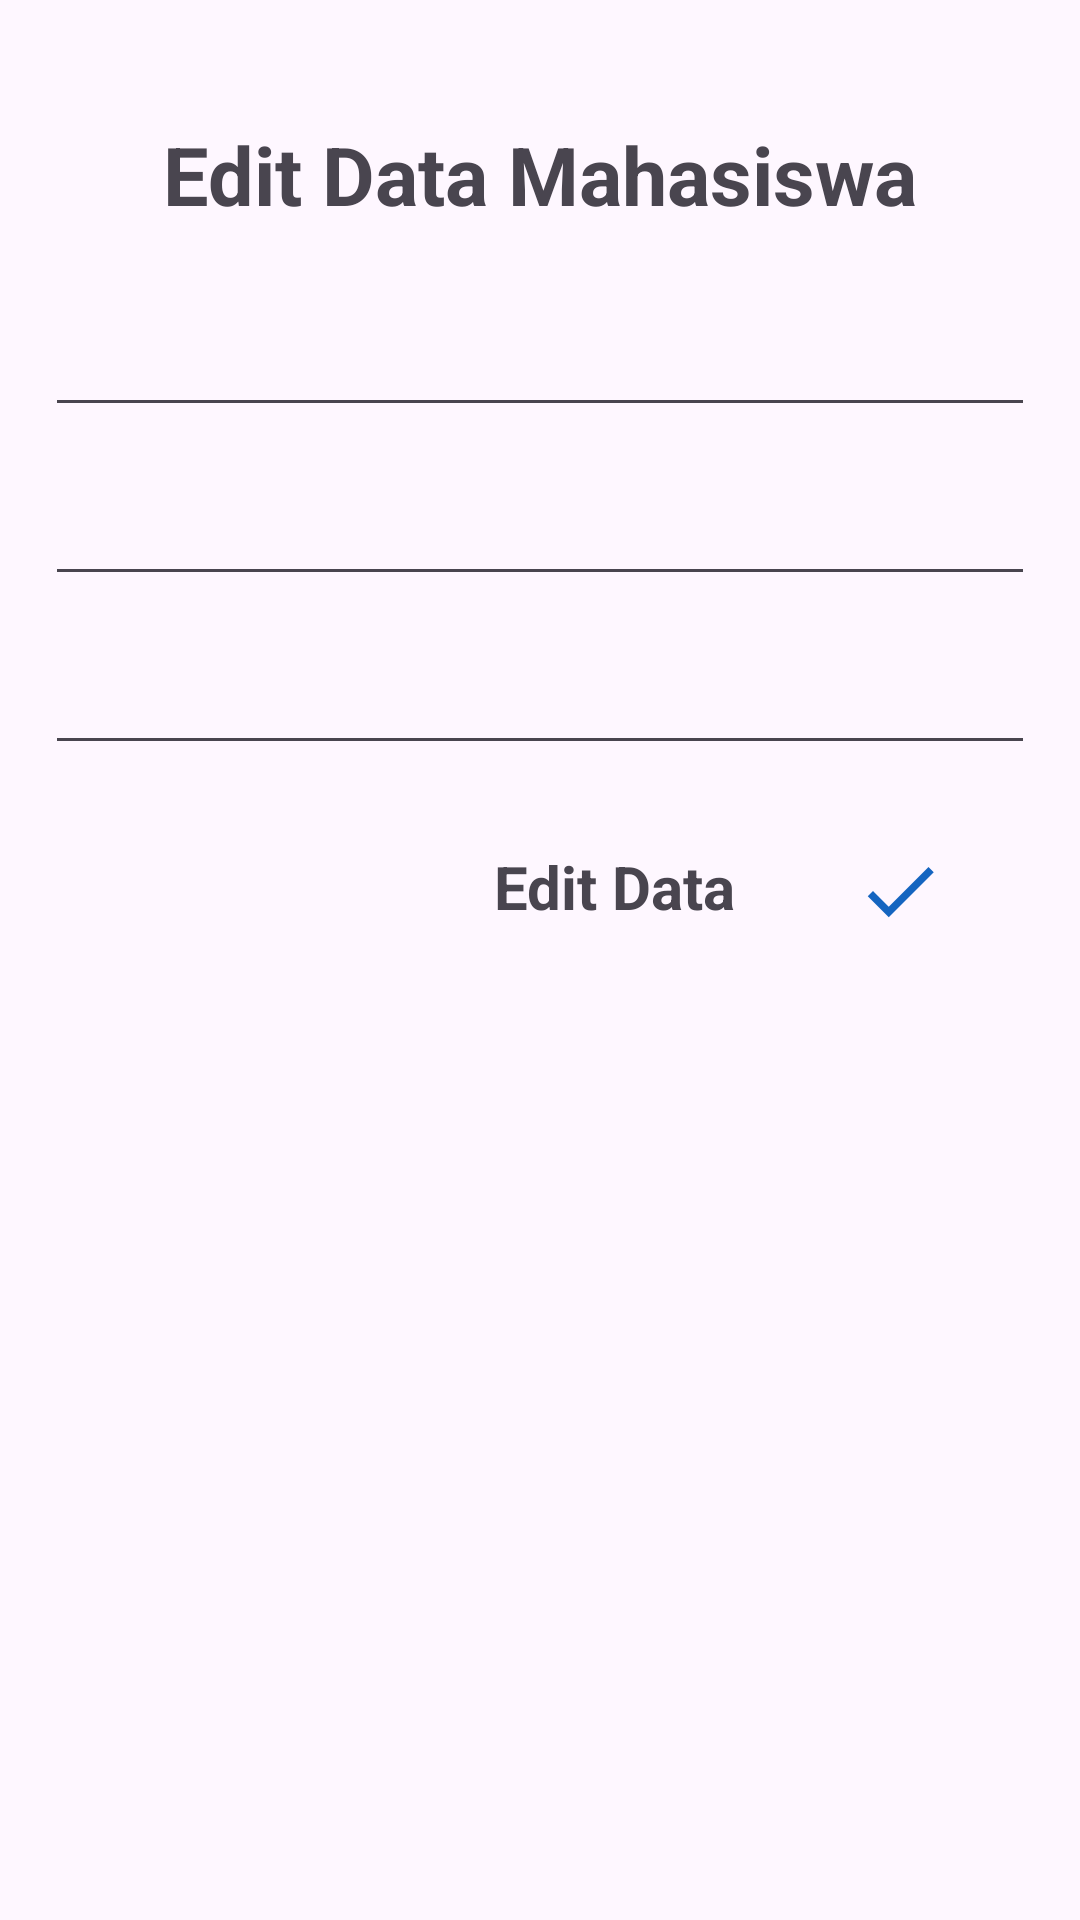

Point at icon controls on the screen. Image size 1080*1920, points as (x,y).
done: (901,892)
